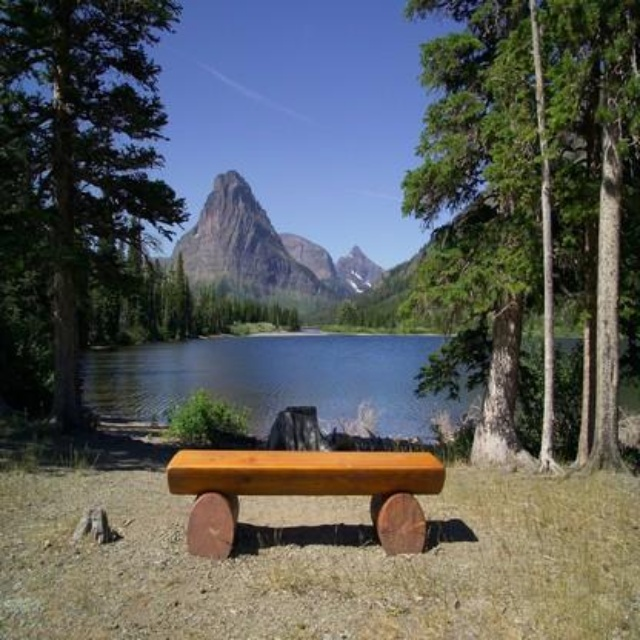obstacle: (157, 434, 460, 565)
